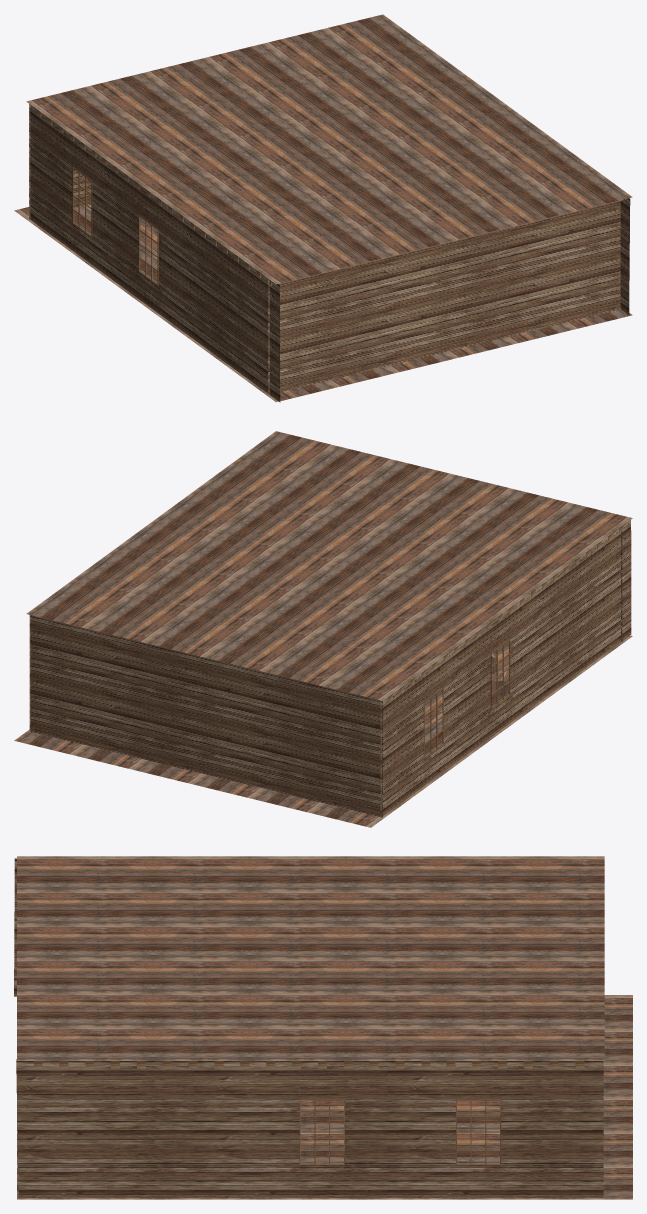
Rendered from opium.dae.
3 renders of one model, top to bottom at view 1: azimuth 30°, elevation 25°; view 2: azimuth 150°, elevation 25°; view 3: azimuth 270°, elevation 25°, orthographic. The views are drawn at different scales.
Parts seen in each view (by area): view 1: ceilling, wall_3, wall_003, floor, wall_004, wall_3_001; view 2: ceilling, wall_3_001, wall_003, floor; view 3: ceilling, wall_004, floor, Shape009, Shape010.
Part boxes in pixels (x1,y1,x2,y2): ceilling: (26, 14, 632, 284); wall_3: (268, 201, 620, 394); wall_003: (30, 105, 280, 402); floor: (14, 205, 632, 402); wall_004: (620, 198, 630, 314); wall_3_001: (29, 104, 91, 219); ceilling: (26, 431, 632, 700); wall_3_001: (30, 615, 382, 817); wall_003: (380, 517, 631, 817); floor: (14, 635, 632, 827); ceilling: (17, 856, 604, 1060); wall_004: (16, 1059, 603, 1197); floor: (17, 995, 632, 1199); Shape009: (456, 1100, 499, 1165); Shape010: (300, 1099, 343, 1165).
Size of the model in its own units: 8.1 by 10.35 by 2.57.
Materials: 11 (11 with a texture image).
